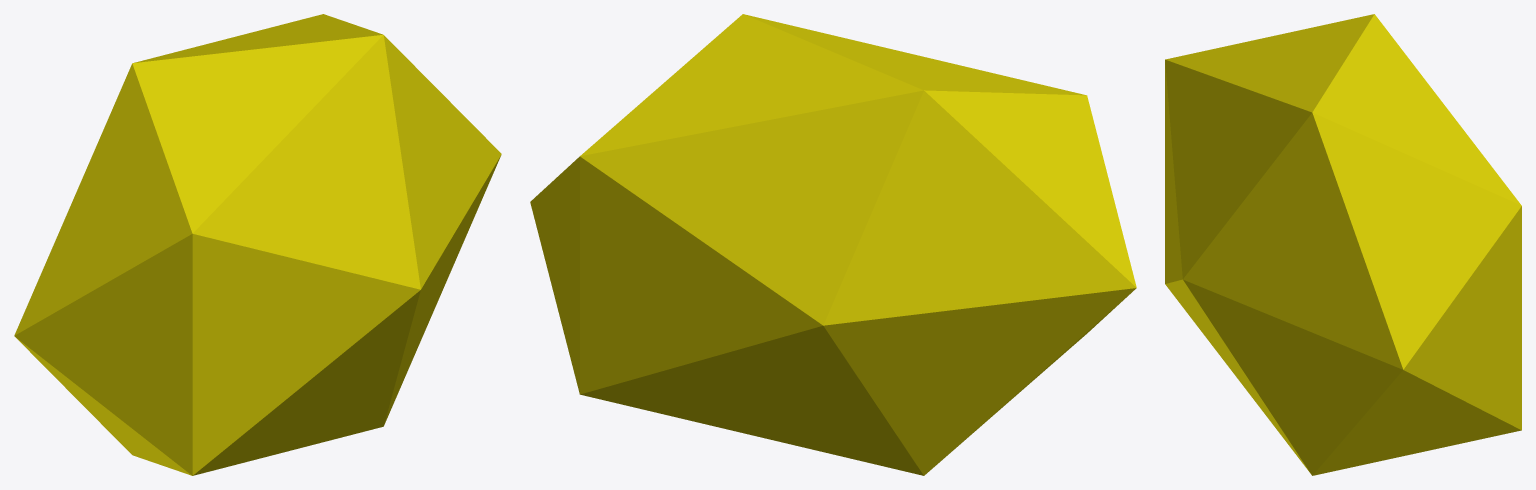
Rendered from stardebris.fbx.
The picture shows the model from 3 angles, left to right: view 1: azimuth 30°, elevation 25°; view 2: azimuth 150°, elevation 25°; view 3: azimuth 270°, elevation 25°; orthographic projection. The views are drawn at different scales.
Visible parts, largest first — view 1: stardust5; view 2: stardust5; view 3: stardust5.
Boxes of the visible parts, bbox=[...] form: stardust5: bbox=[14, 14, 501, 475]; stardust5: bbox=[530, 14, 1136, 475]; stardust5: bbox=[1165, 14, 1521, 475].
Bounding box in the file's own units: 0.0328 × 0.0222 × 0.0198.
